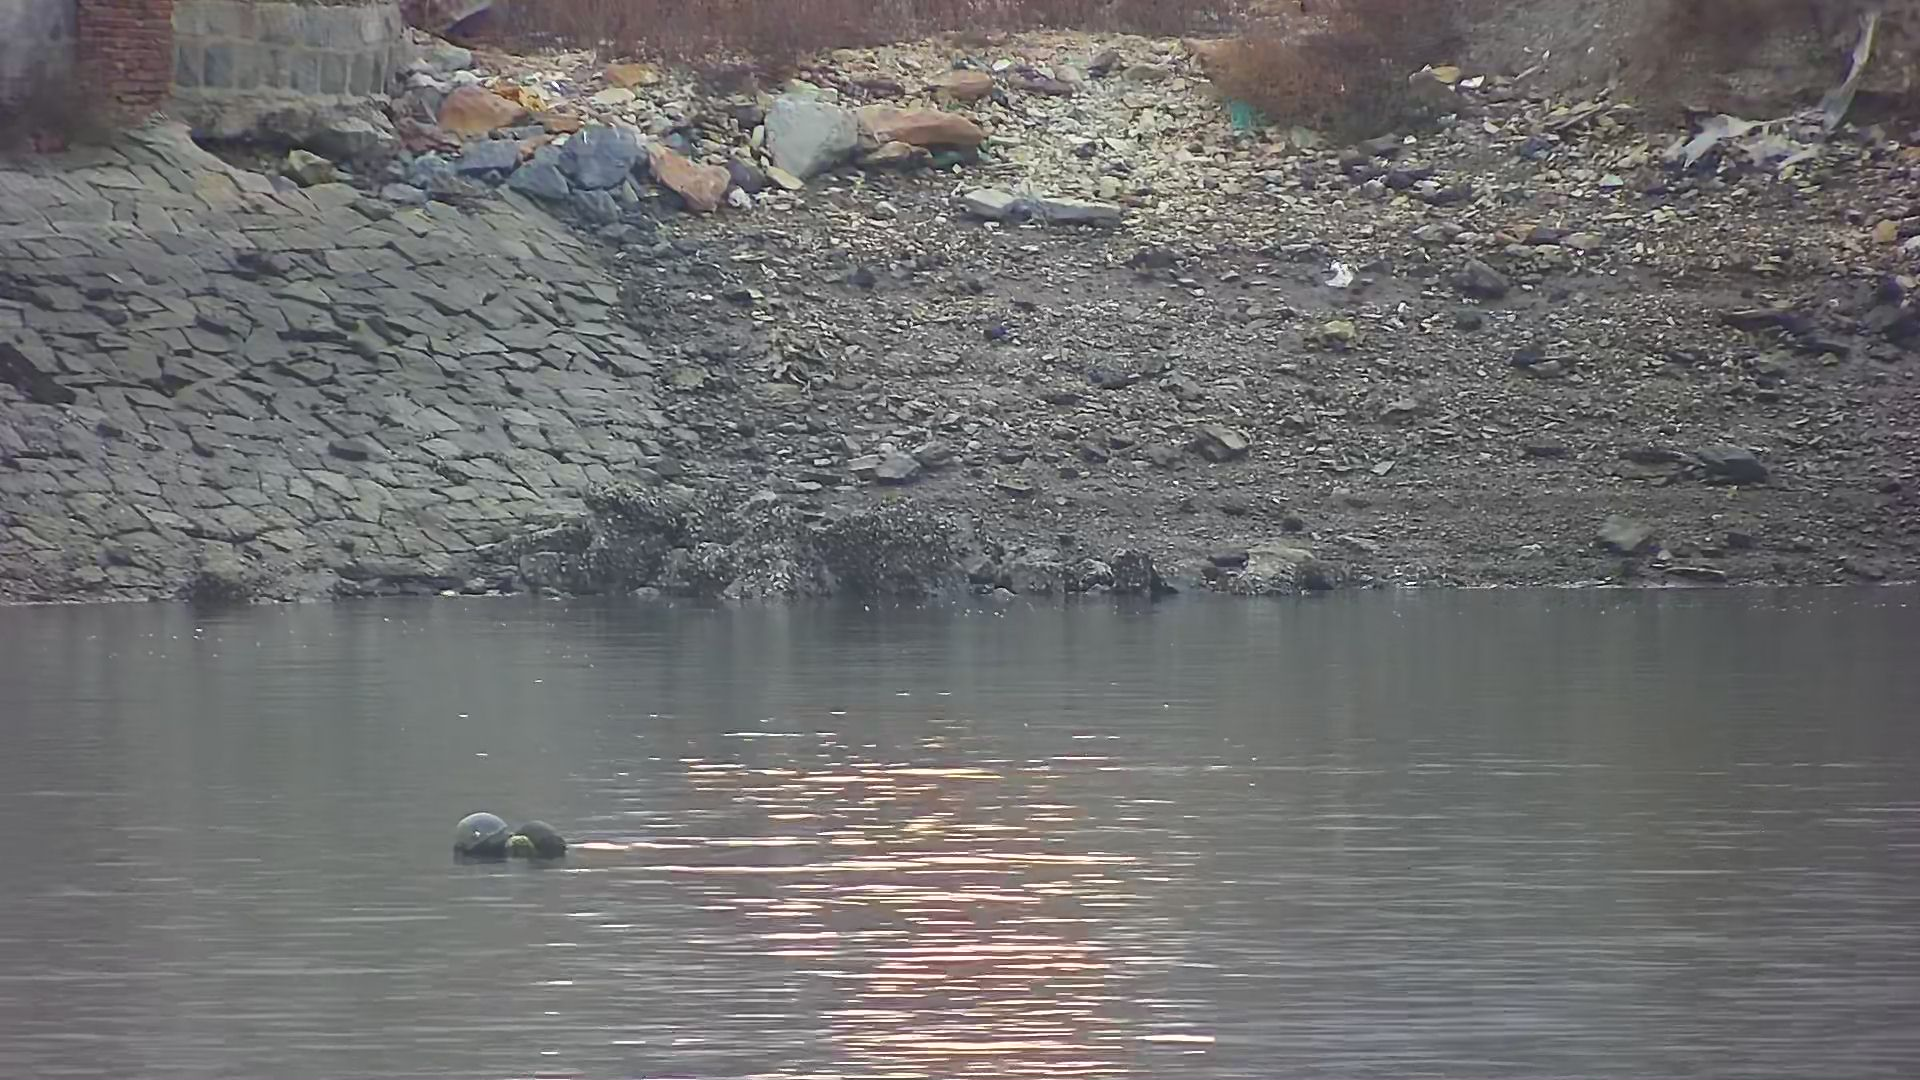rubbish: (448, 810, 583, 870)
